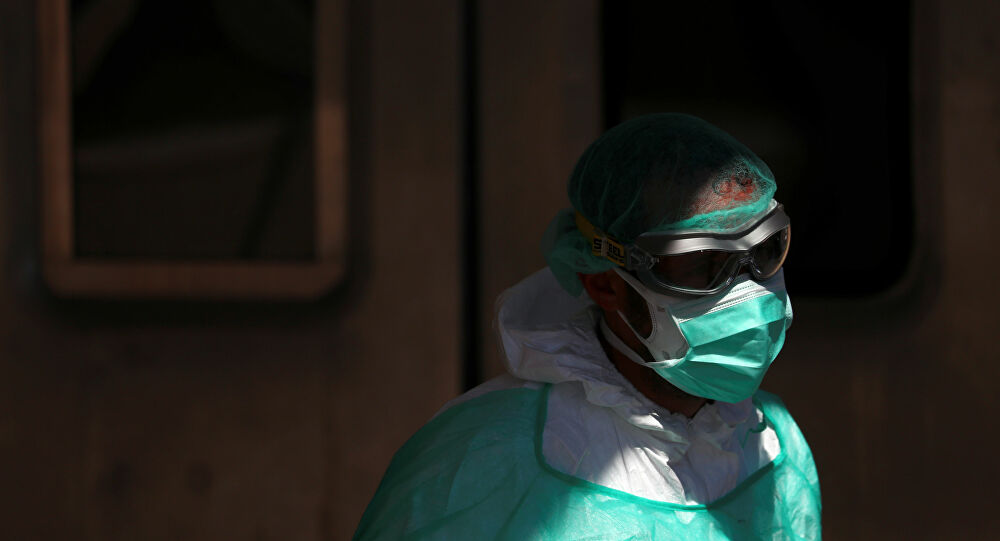with_mask: (591, 168, 800, 399)
